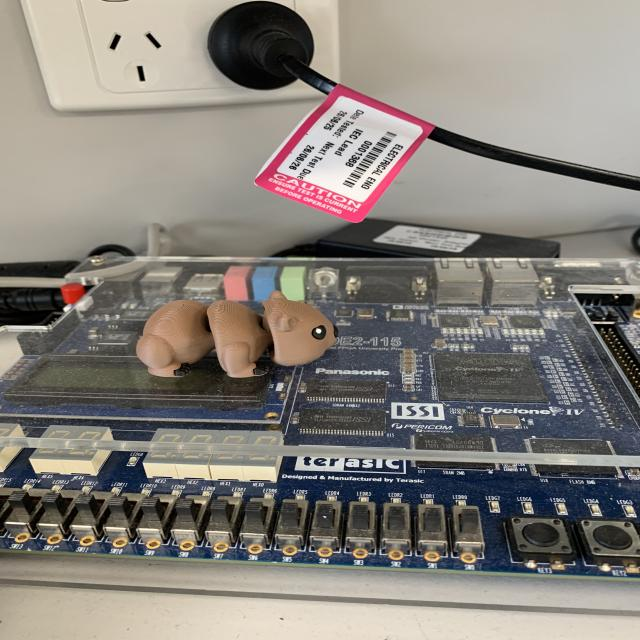wombat: (122, 286, 347, 385)
